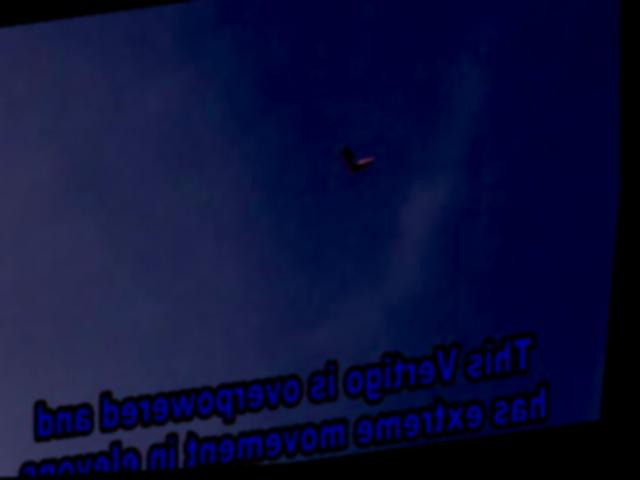flying wing: (340, 144, 380, 180)
